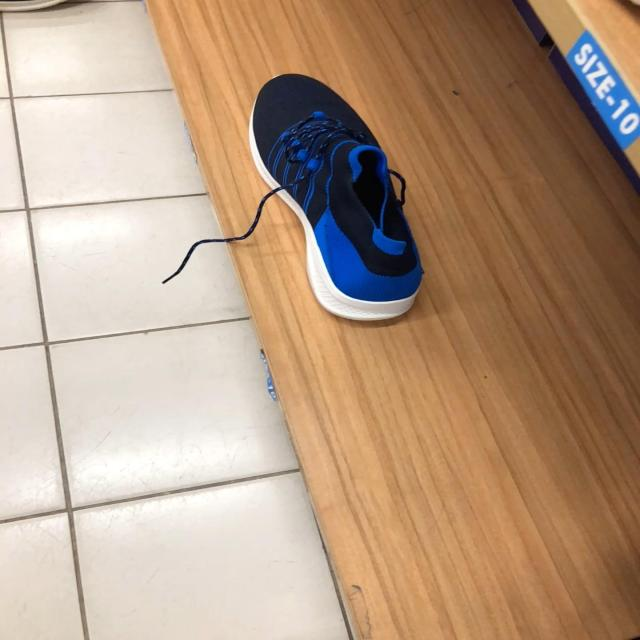shoe: (249, 74, 425, 324)
